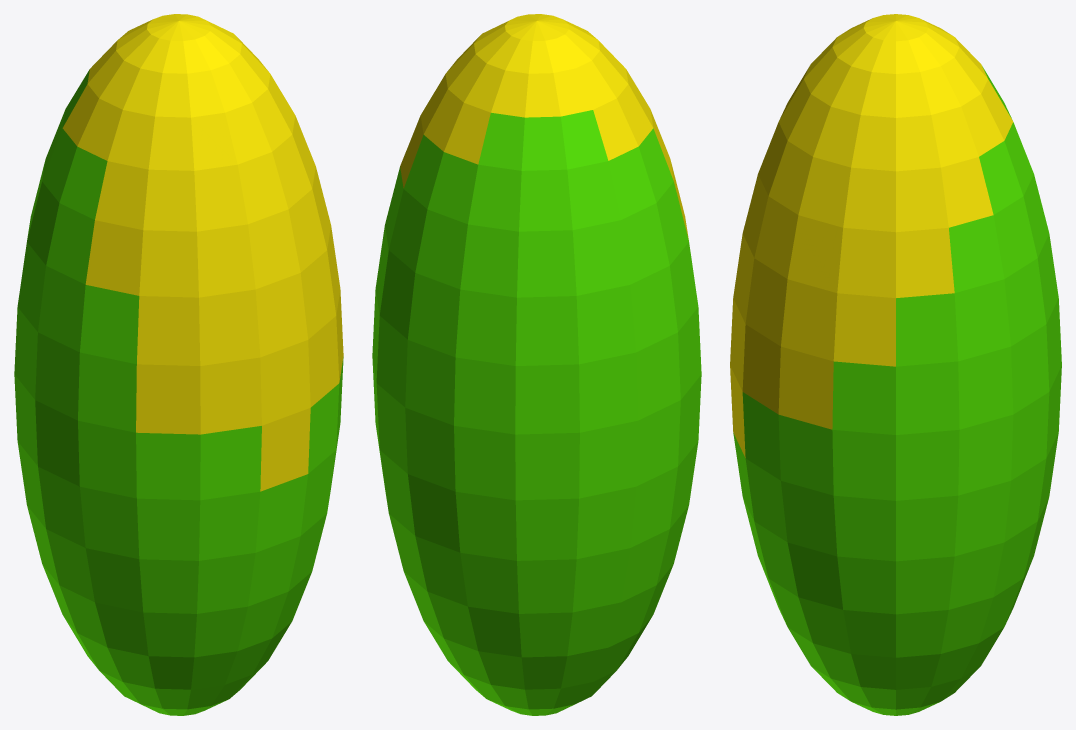
Rendered from milho.fbx.
3 views of the same model, side by side, from view 1: azimuth 30°, elevation 25°; view 2: azimuth 150°, elevation 25°; view 3: azimuth 270°, elevation 25° (orthographic).
Parts seen in each view (by area): view 1: milho; view 2: milho; view 3: milho.
Part boxes in pixels (<box>): milho: <box>14,14,343,715</box>; milho: <box>372,14,701,715</box>; milho: <box>730,14,1061,715</box>.
Size of the model in its own units: 200 by 457 by 200.
